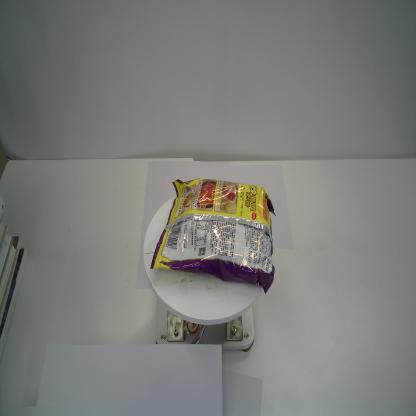Instant Noodles: (149, 177, 277, 295)
